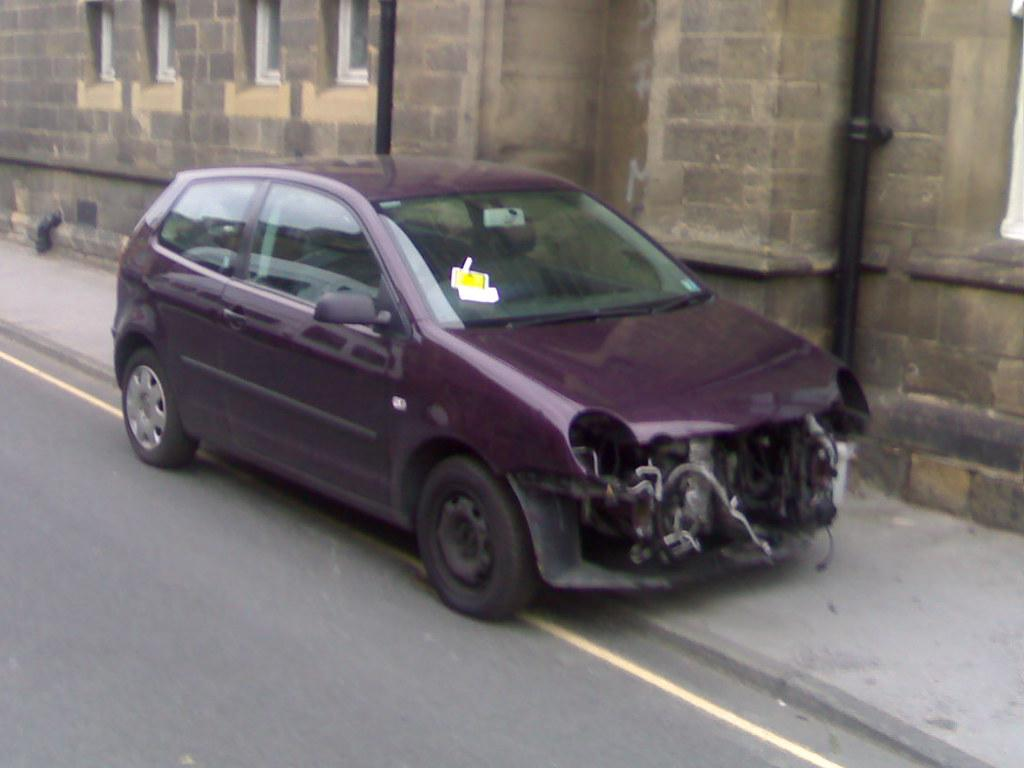front-bumper-dent: (593, 418, 834, 558)
